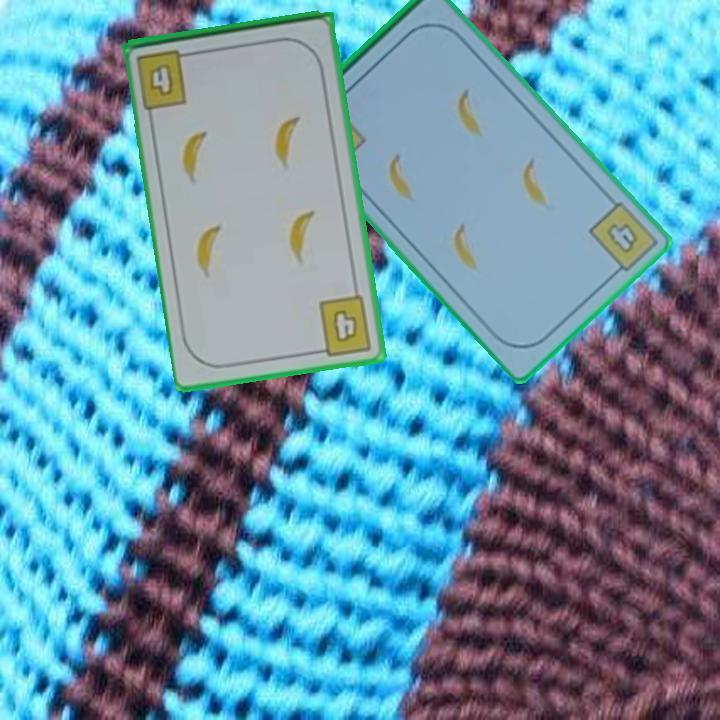4b: (584, 197, 661, 280), (311, 292, 376, 359), (132, 45, 197, 112)
